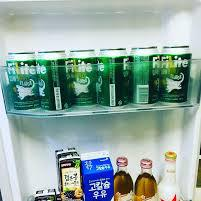beer: (7, 48, 193, 109)
